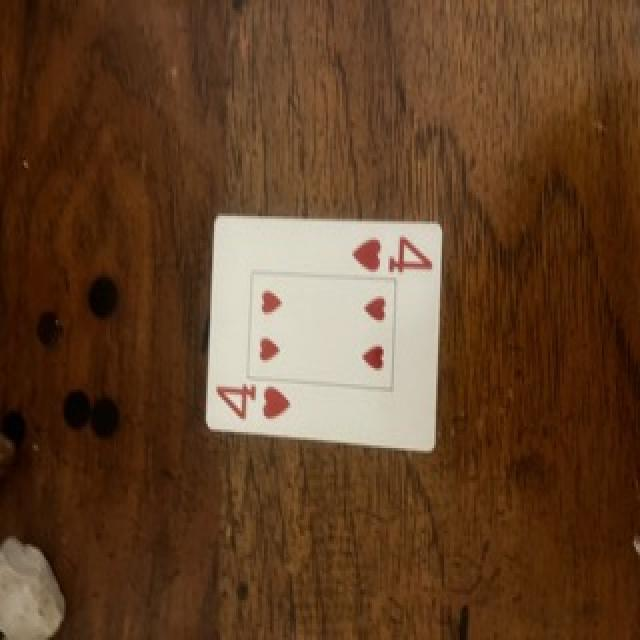4 of hearts: (209, 215, 439, 452)
